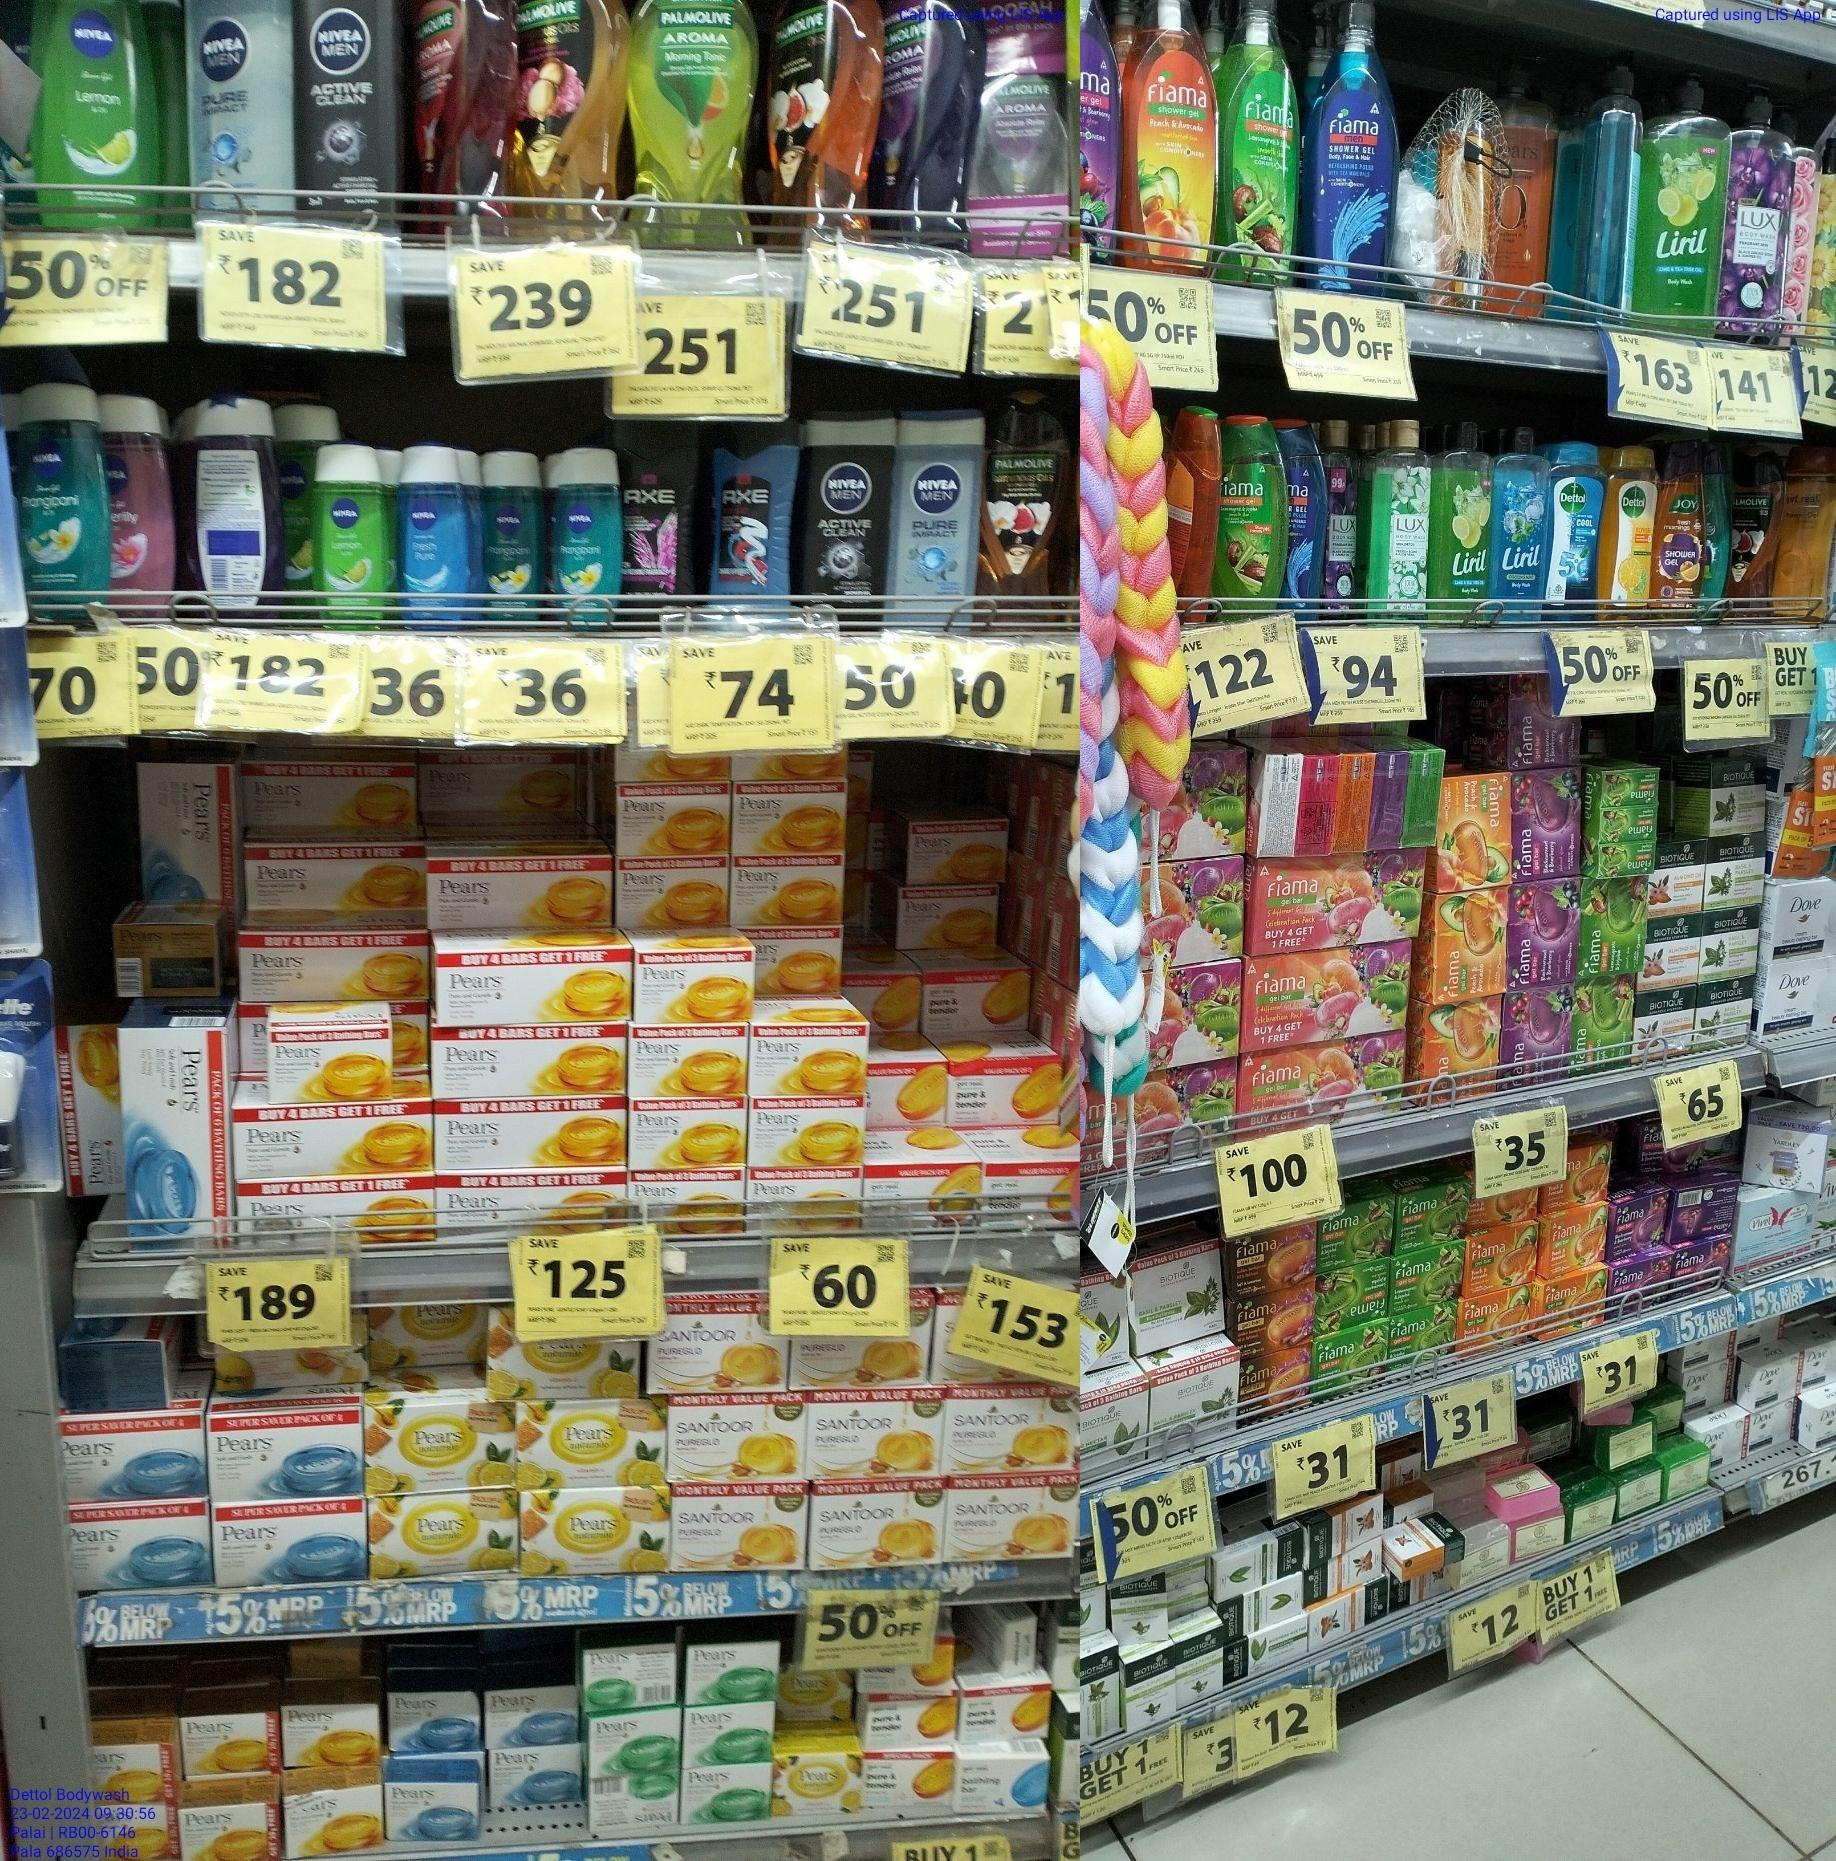Dettol_Bodywash_Cool: (1552, 442, 1602, 627)
Dettol_Bodywash_Refresh: (1606, 439, 1649, 625)
Joy_Shower_Gel_Mandarin_and_Lemongrass_250ML: (1651, 437, 1700, 617)
Lux_Body_Wash_Skin_Detox_Freesia_Scent_and_Alove_Vera_245ML: (1375, 419, 1431, 625)
Nivea_Shower_Gel_Frangipani_and_Oil_250ML: (20, 383, 111, 605)
Nivea_Shower_Gel_Lemon_and_Oil_250ML: (35, 2, 161, 229)
Palmolive_Luminous_Oils_With_White_Orchid_Shower_Gel_250ML: (984, 393, 1059, 625)
